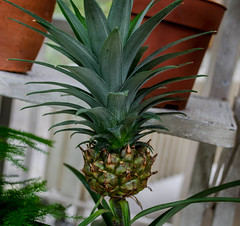Pineapple: (50, 2, 204, 197)
